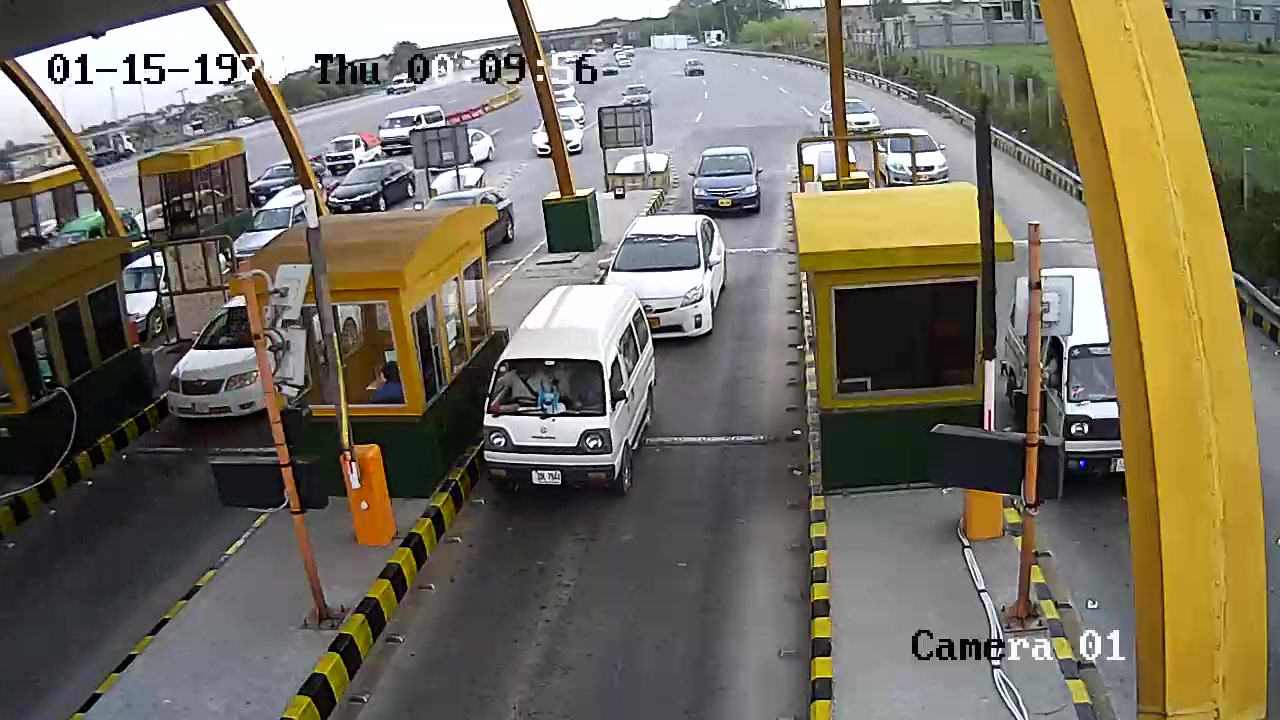F1: (482, 282, 656, 530)
